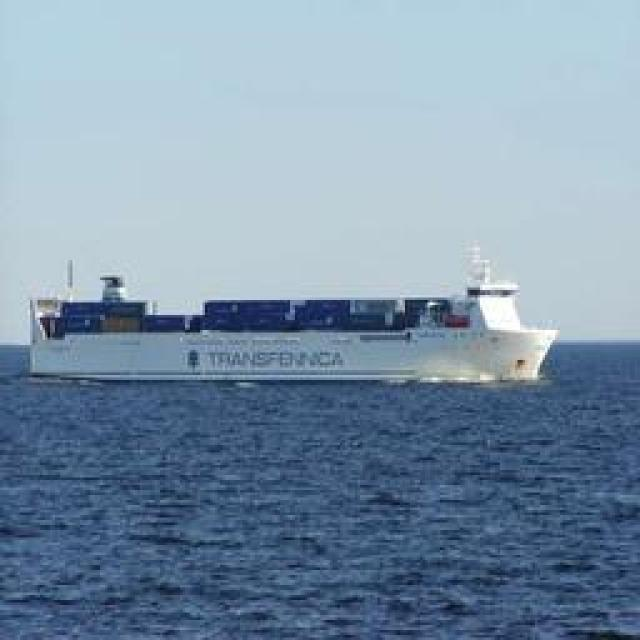CIV_Ship: (24, 262, 556, 382)
